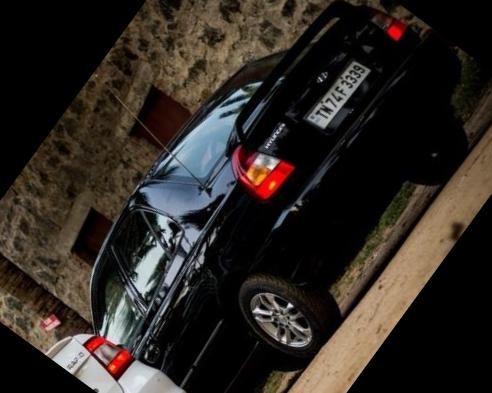plate: (293, 42, 386, 147)
